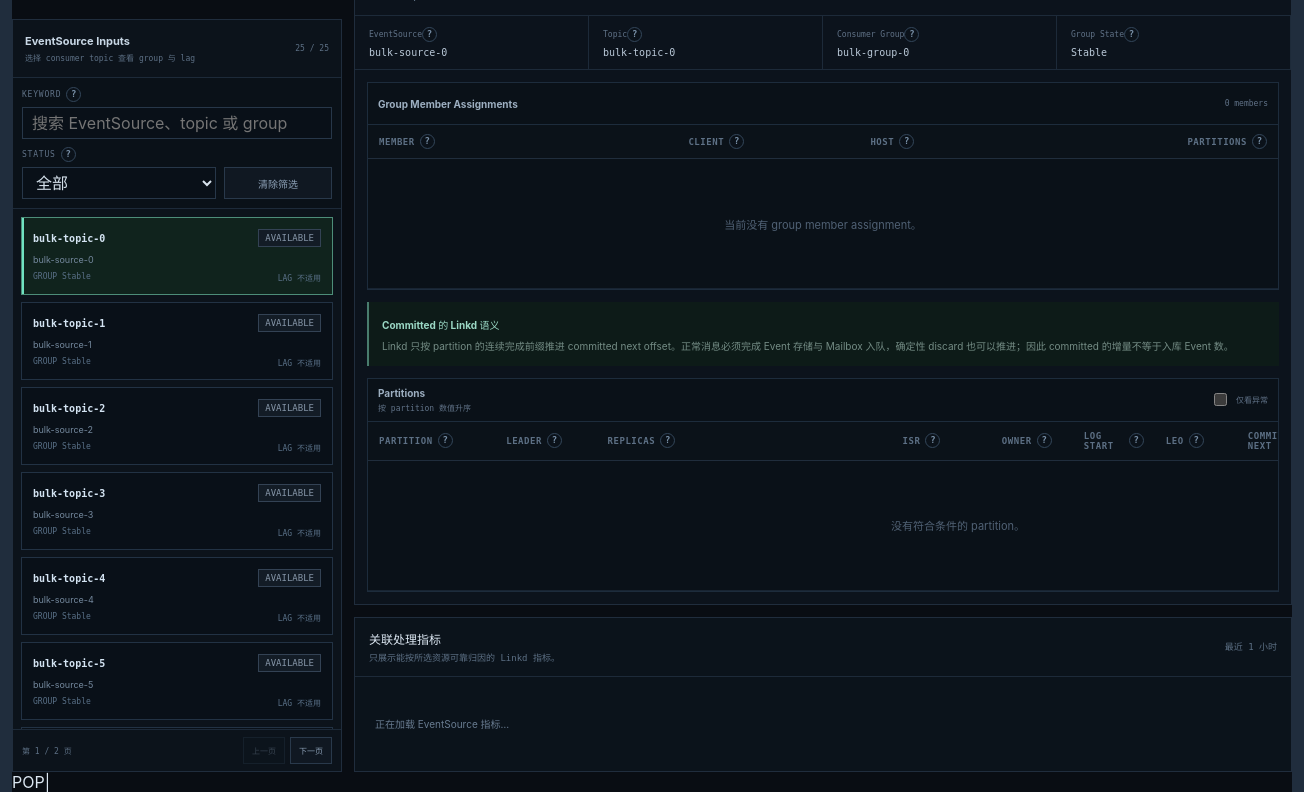
it: KafkaPage › paginates a large topic set and converges selection to the visible page
(page scrolled)
Click the button "下一页" at (311, 750), box [290,736,332,764]
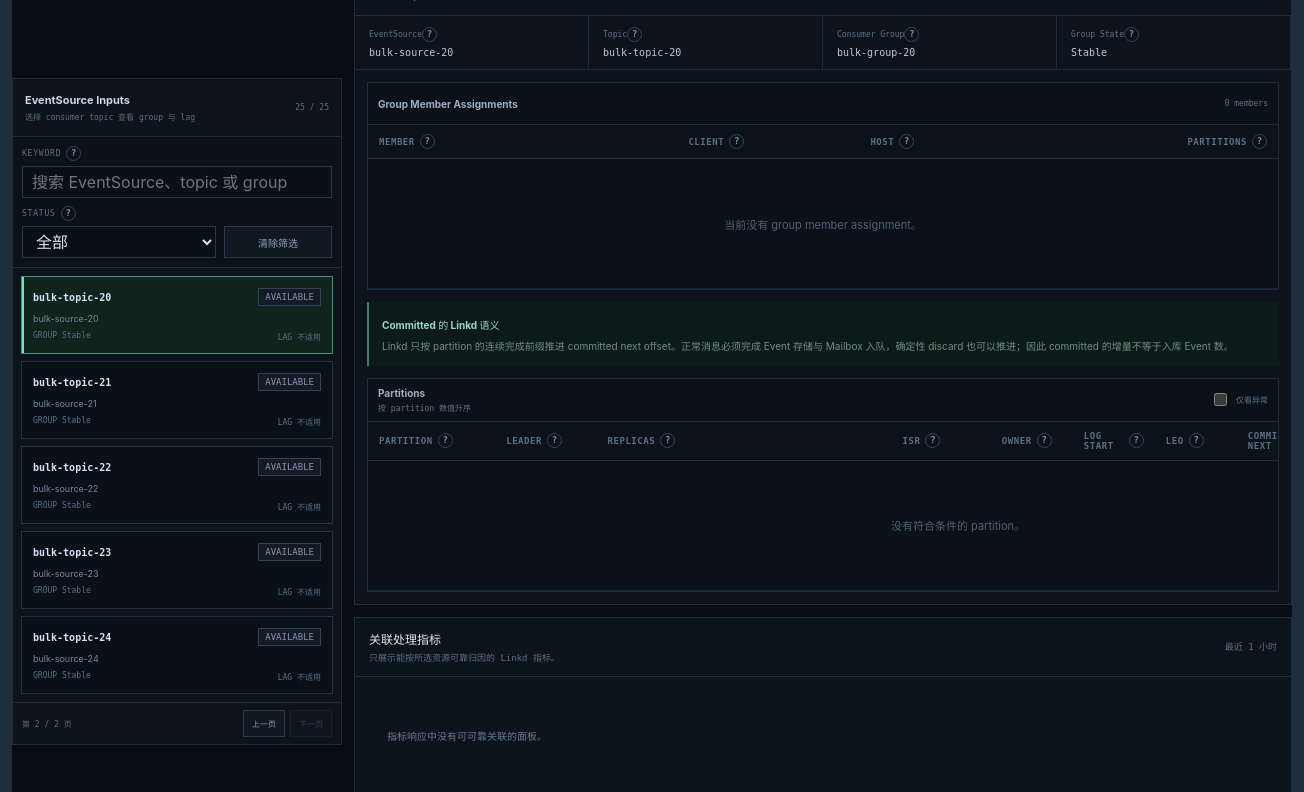
Expected: the number of buttons "bulk-topic-20 available bulk-source-20 GROUP Stable LAG 不适用" is 5, [21,276,333,354]; [21,361,333,439]; [21,446,333,524]; [21,531,333,609]; [21,616,333,694]
Expected: the text "第 2 / 2 页" is shown, [22,718,72,729]
